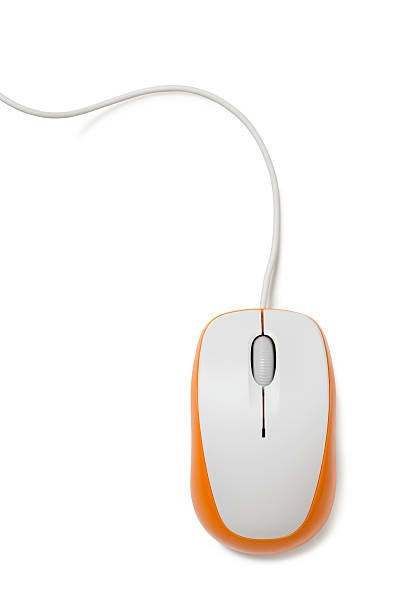mouse: (188, 304, 341, 561)
